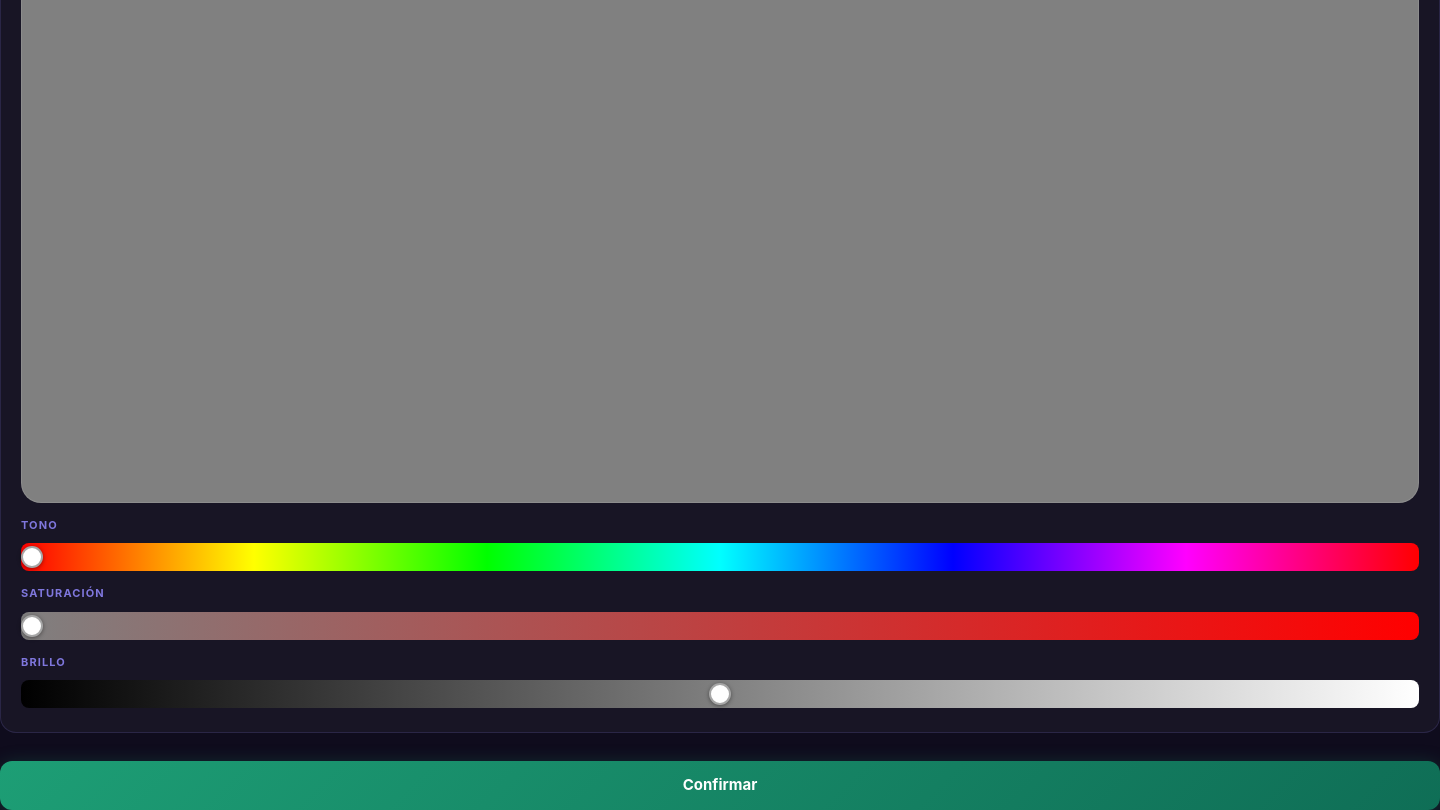
Test: Encuentra el Color Correcto RoundView — guess phase › submitting a guess sends the hex value and locks in the picker
This screenshot has width=1440, height=810.
(page scrolled)
Click the button "Confirmar" at (720, 785), box [0,761,1439,809]
(page scrolled)
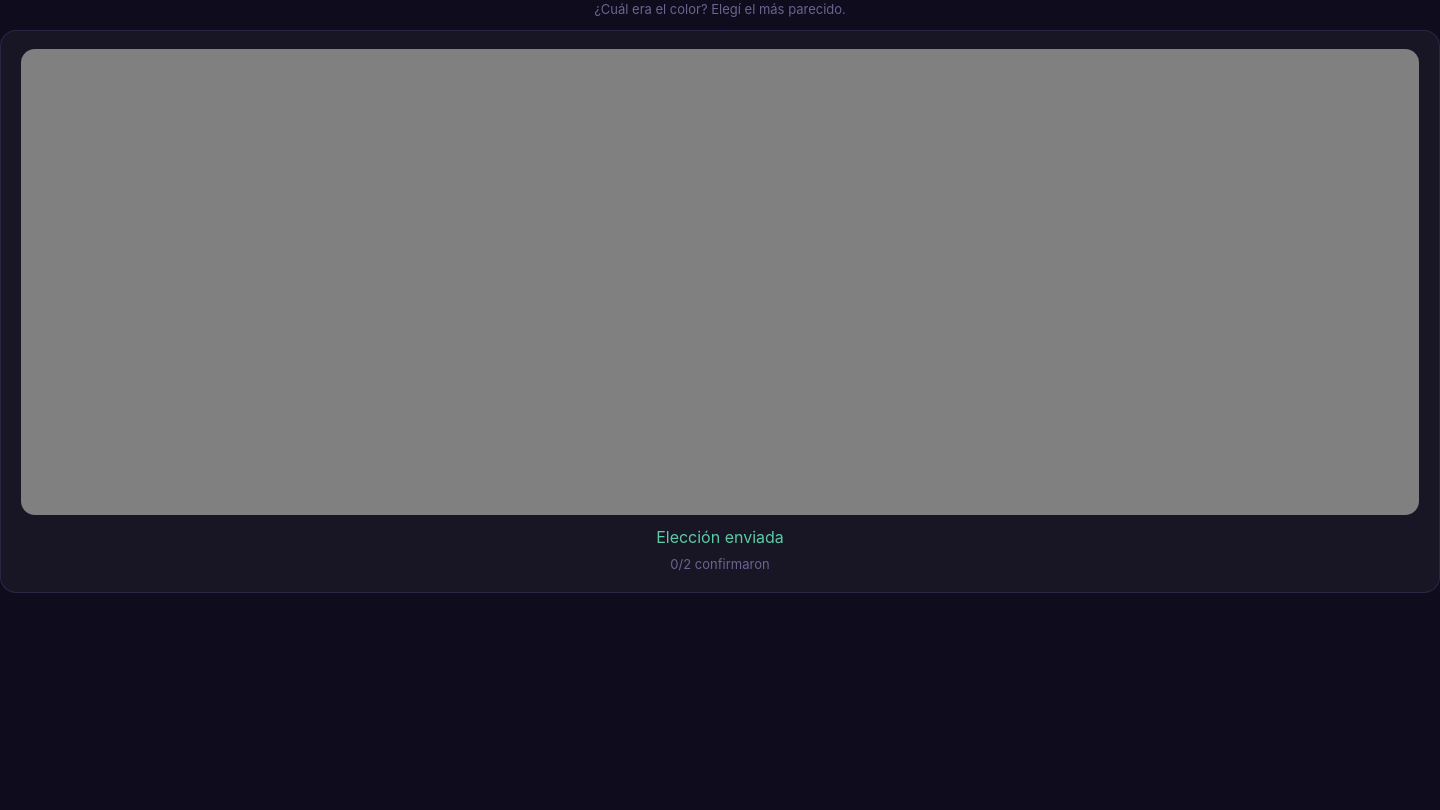
expect the text "Elección enviada" is shown: met, box [656,526,784,546]
